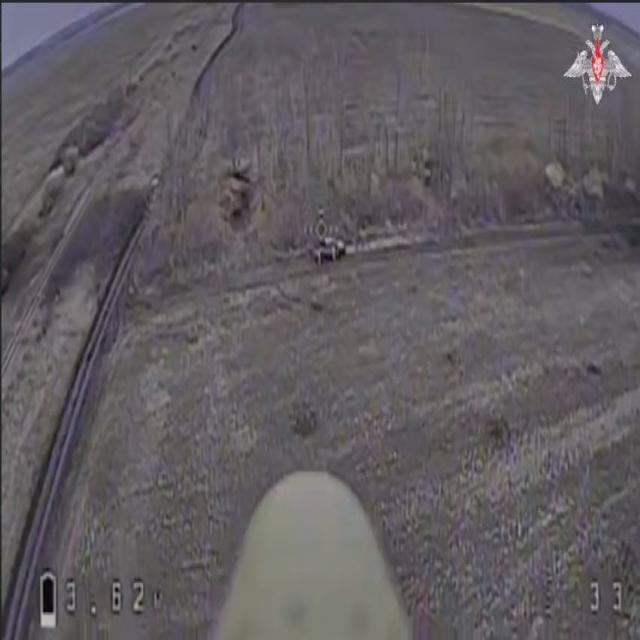vehicle: (305, 222, 358, 287)
